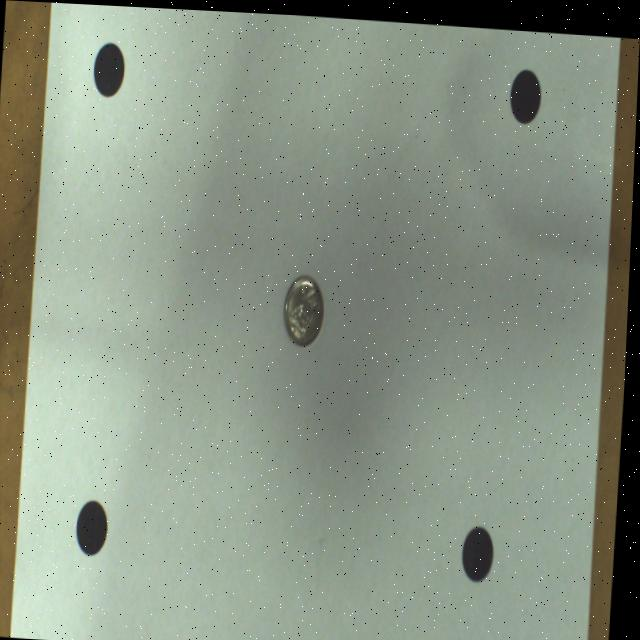head1bath: (286, 272, 327, 342)
space: (81, 498, 112, 555), (510, 64, 542, 118), (466, 521, 498, 575), (94, 42, 125, 94)
